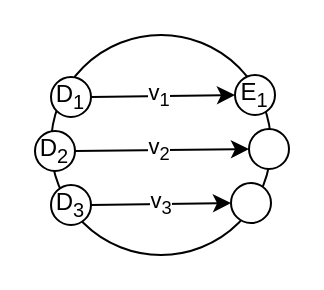
Some shapes in this 324 by 290 pixel diagram are drawn without their labels. Here are the shapes that lost their labels. From the top down, the centre of each, then its label:
At point 268,148: "E 2".
At point 250,202: "E 3".
